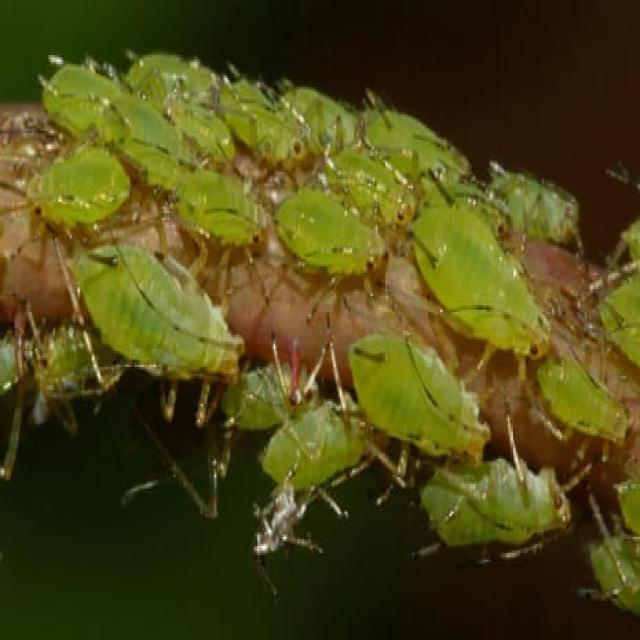Aphid-Grouped-: (36, 20, 610, 566)
Aphid-Grown-: (55, 224, 251, 404), (394, 172, 560, 376), (341, 319, 500, 481), (422, 432, 578, 574), (22, 122, 153, 269), (271, 173, 393, 310), (158, 136, 274, 272), (321, 137, 424, 250)
